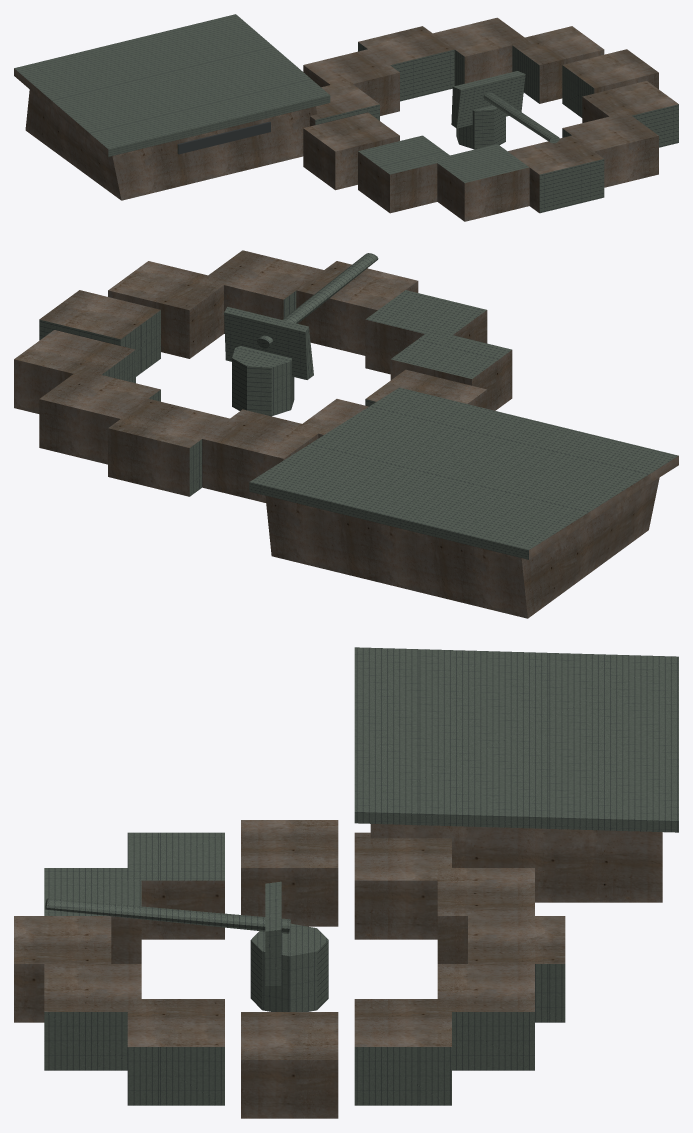
Rendered from damaged2.gltf.
The picture shows the model from 3 angles, top to bottom: view 1: azimuth 30°, elevation 25°; view 2: azimuth 150°, elevation 25°; view 3: azimuth 270°, elevation 25°; orthographic projection. The views are drawn at different scales.
Parts seen in each view (by area): view 1: britainbattery_damaged2; view 2: britainbattery_damaged2; view 3: britainbattery_damaged2.
Part boxes in pixels (bbox=[...]): britainbattery_damaged2: bbox=[14, 14, 678, 221]; britainbattery_damaged2: bbox=[14, 250, 678, 618]; britainbattery_damaged2: bbox=[14, 647, 678, 1118].
Bounding box in the file's own units: 55.51 × 6.43 × 41.
4 materials, 3 textured.
